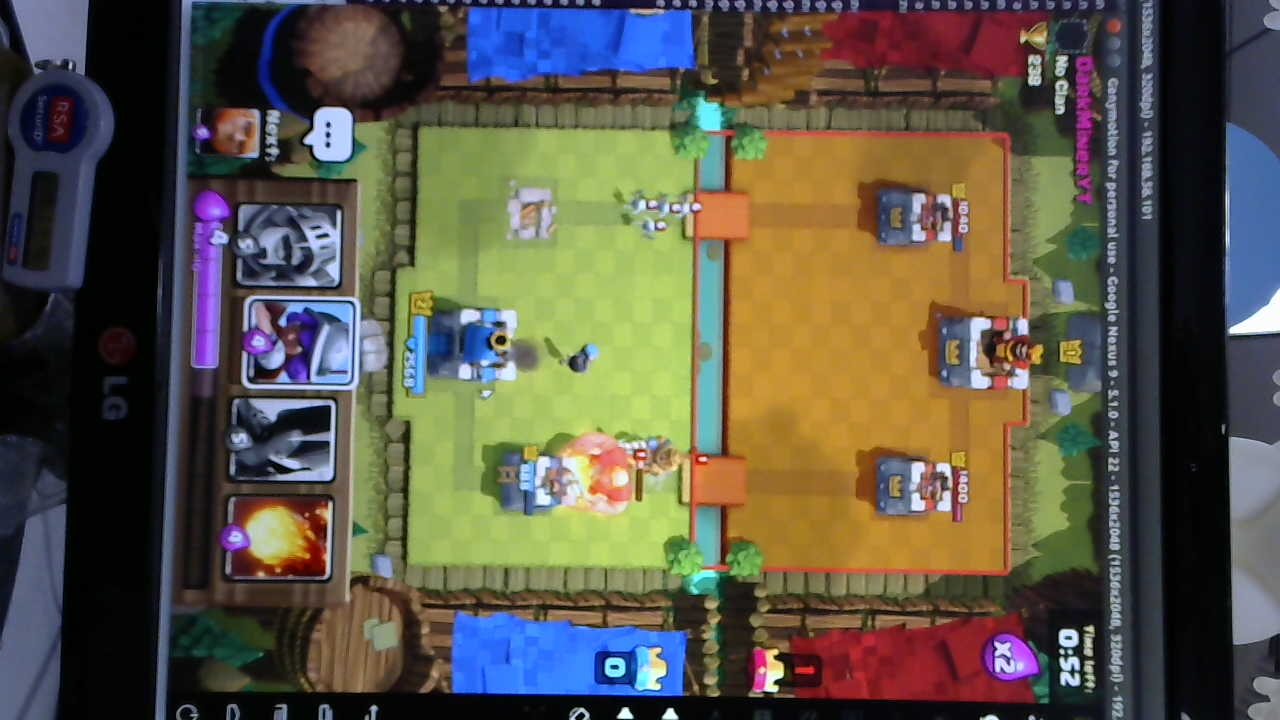arena: (499, 440, 578, 508)
bomb: (553, 339, 602, 376)
darena: (503, 180, 560, 247)
earena: (872, 187, 955, 252), (879, 453, 953, 521)
eking: (934, 310, 1038, 392)
giant: (567, 423, 633, 511)
king: (430, 303, 522, 385)
prince: (614, 430, 688, 484)
skeleton: (621, 189, 704, 240)
